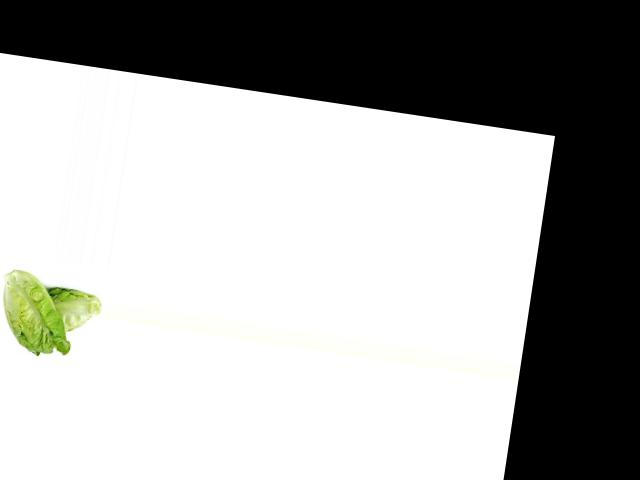lettuce: (40, 281, 105, 339)
